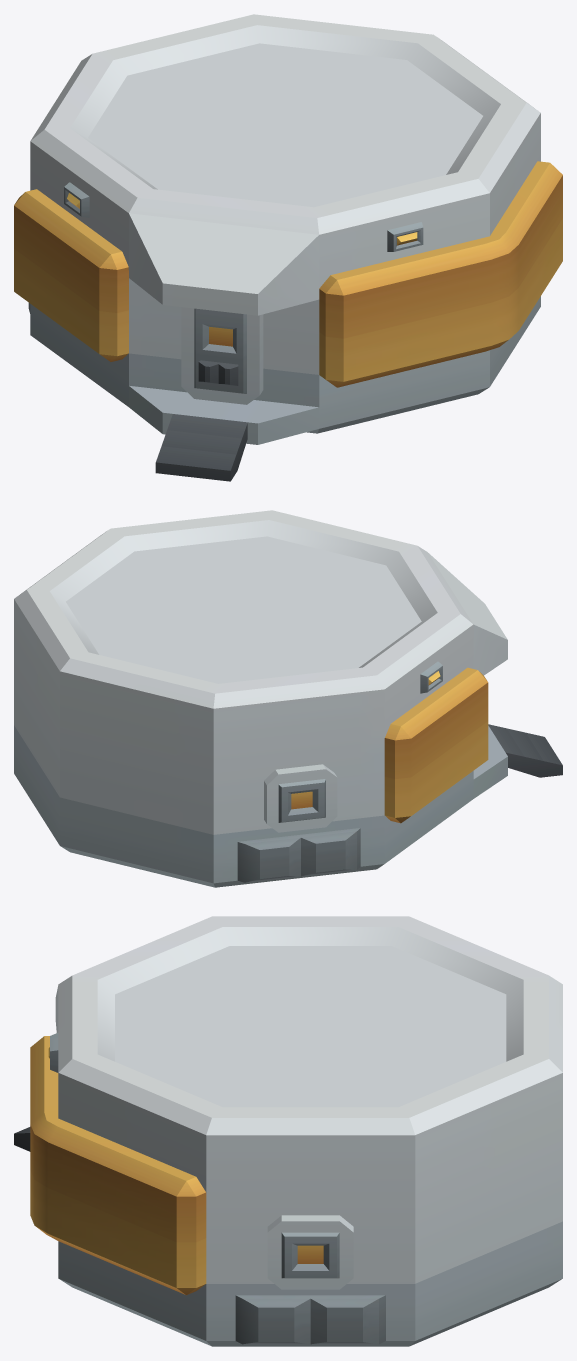
Rendered from base-module.glb.
3 renders of one model, top to bottom at view 1: azimuth 30°, elevation 25°; view 2: azimuth 150°, elevation 25°; view 3: azimuth 270°, elevation 25°, orthographic. The views are drawn at different scales.
Parts seen in each view (by area): view 1: basemodule_A; view 2: basemodule_A; view 3: basemodule_A.
Part boxes in pixels (x1=…): basemodule_A: x1=14, y1=14, x2=562, y2=481; basemodule_A: x1=14, y1=510, x2=562, y2=887; basemodule_A: x1=14, y1=916, x2=562, y2=1346.
Size of the model in its own units: 2.25 by 1 by 2.18.
1 material, 1 textured.
